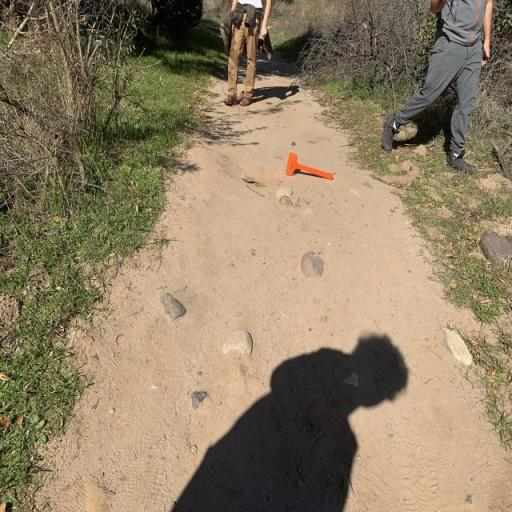mallet: (285, 152, 333, 180)
